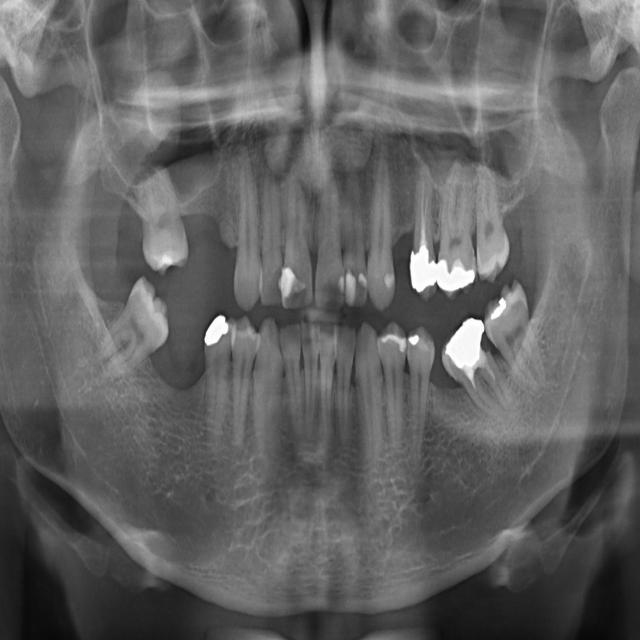AGS Medikal Implant: (340, 155, 368, 311)
AMerOss Implant: (363, 121, 398, 315)
Anthogyr Implant: (404, 155, 438, 306)
Bicon Implant: (427, 155, 481, 306)
BioHorizons Implant: (474, 162, 511, 286)
Biomet 3i Implant: (475, 274, 554, 407)
Blue Sky Bio Implant: (427, 312, 522, 439)
Caries: (127, 134, 193, 281)
Composite filling: (407, 323, 436, 463)
Cowellmedi Implant: (379, 317, 407, 454)
Crown: (350, 317, 393, 488)
DENTSPLY Implant: (336, 322, 356, 449)
Dentatus Implant: (319, 322, 335, 451)
Dentis Implant: (301, 319, 326, 444)
Dentium Implant: (280, 322, 307, 439)
Euroteknika Implant: (252, 314, 284, 485)
Filling: (222, 313, 259, 451)
Frontier Implant: (191, 310, 235, 457)
Keystone Dental Implant: (122, 347, 124, 348)
Maxilla: (231, 135, 267, 313)
Megagen Implant: (260, 138, 284, 309)
Neodent Implant: (282, 159, 317, 311)
Neoss Implant: (314, 158, 350, 313)
